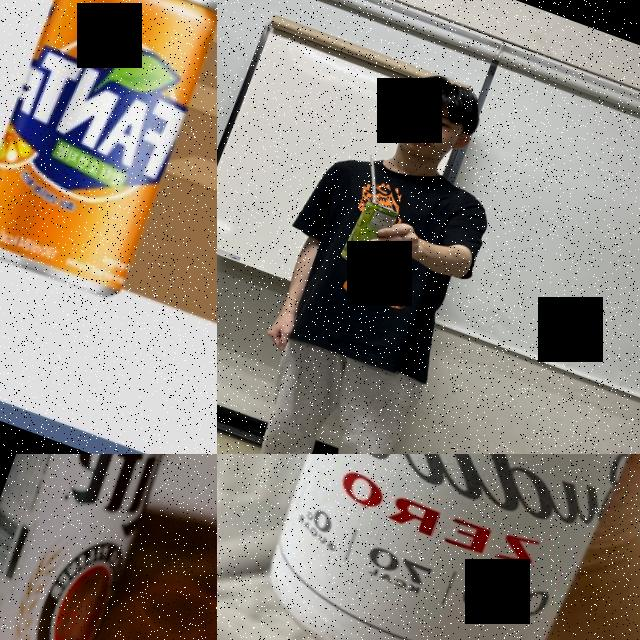can: (231, 454, 640, 640), (0, 0, 217, 305), (150, 485, 217, 640), (335, 196, 402, 274)
